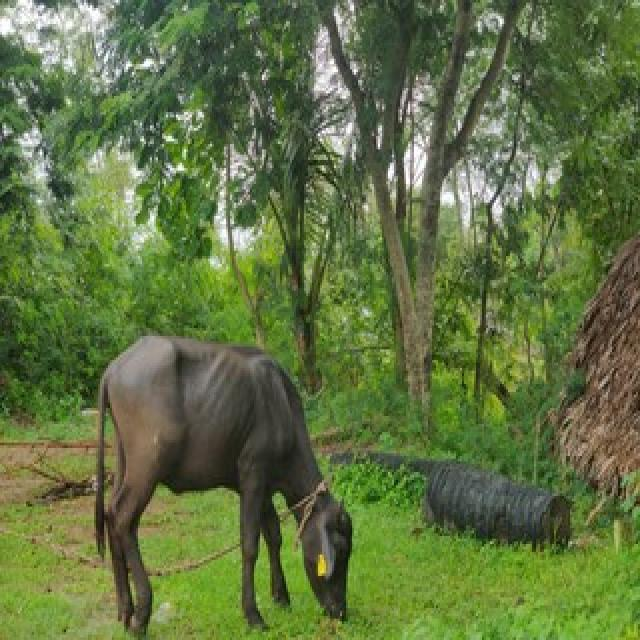Buffalo: (90, 328, 354, 637)
